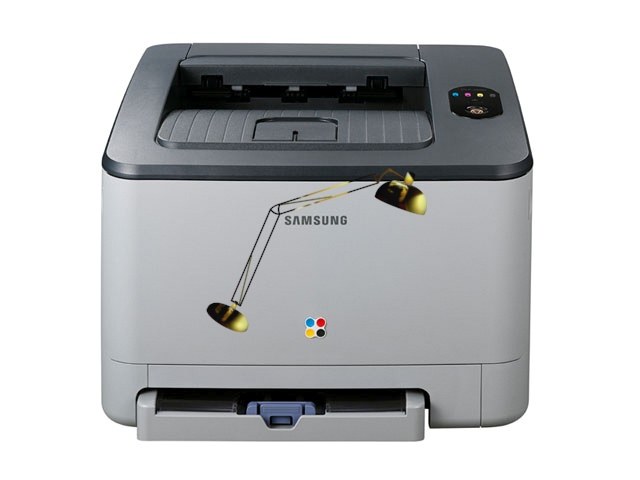desk_lamp: (201, 160, 433, 337)
